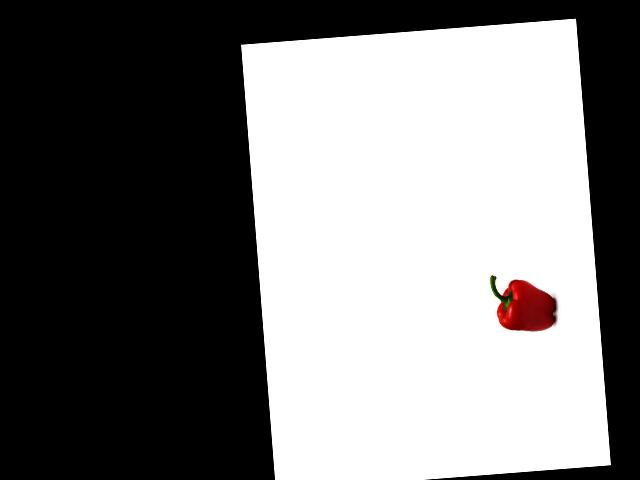bell_pepper: (485, 268, 562, 337)
